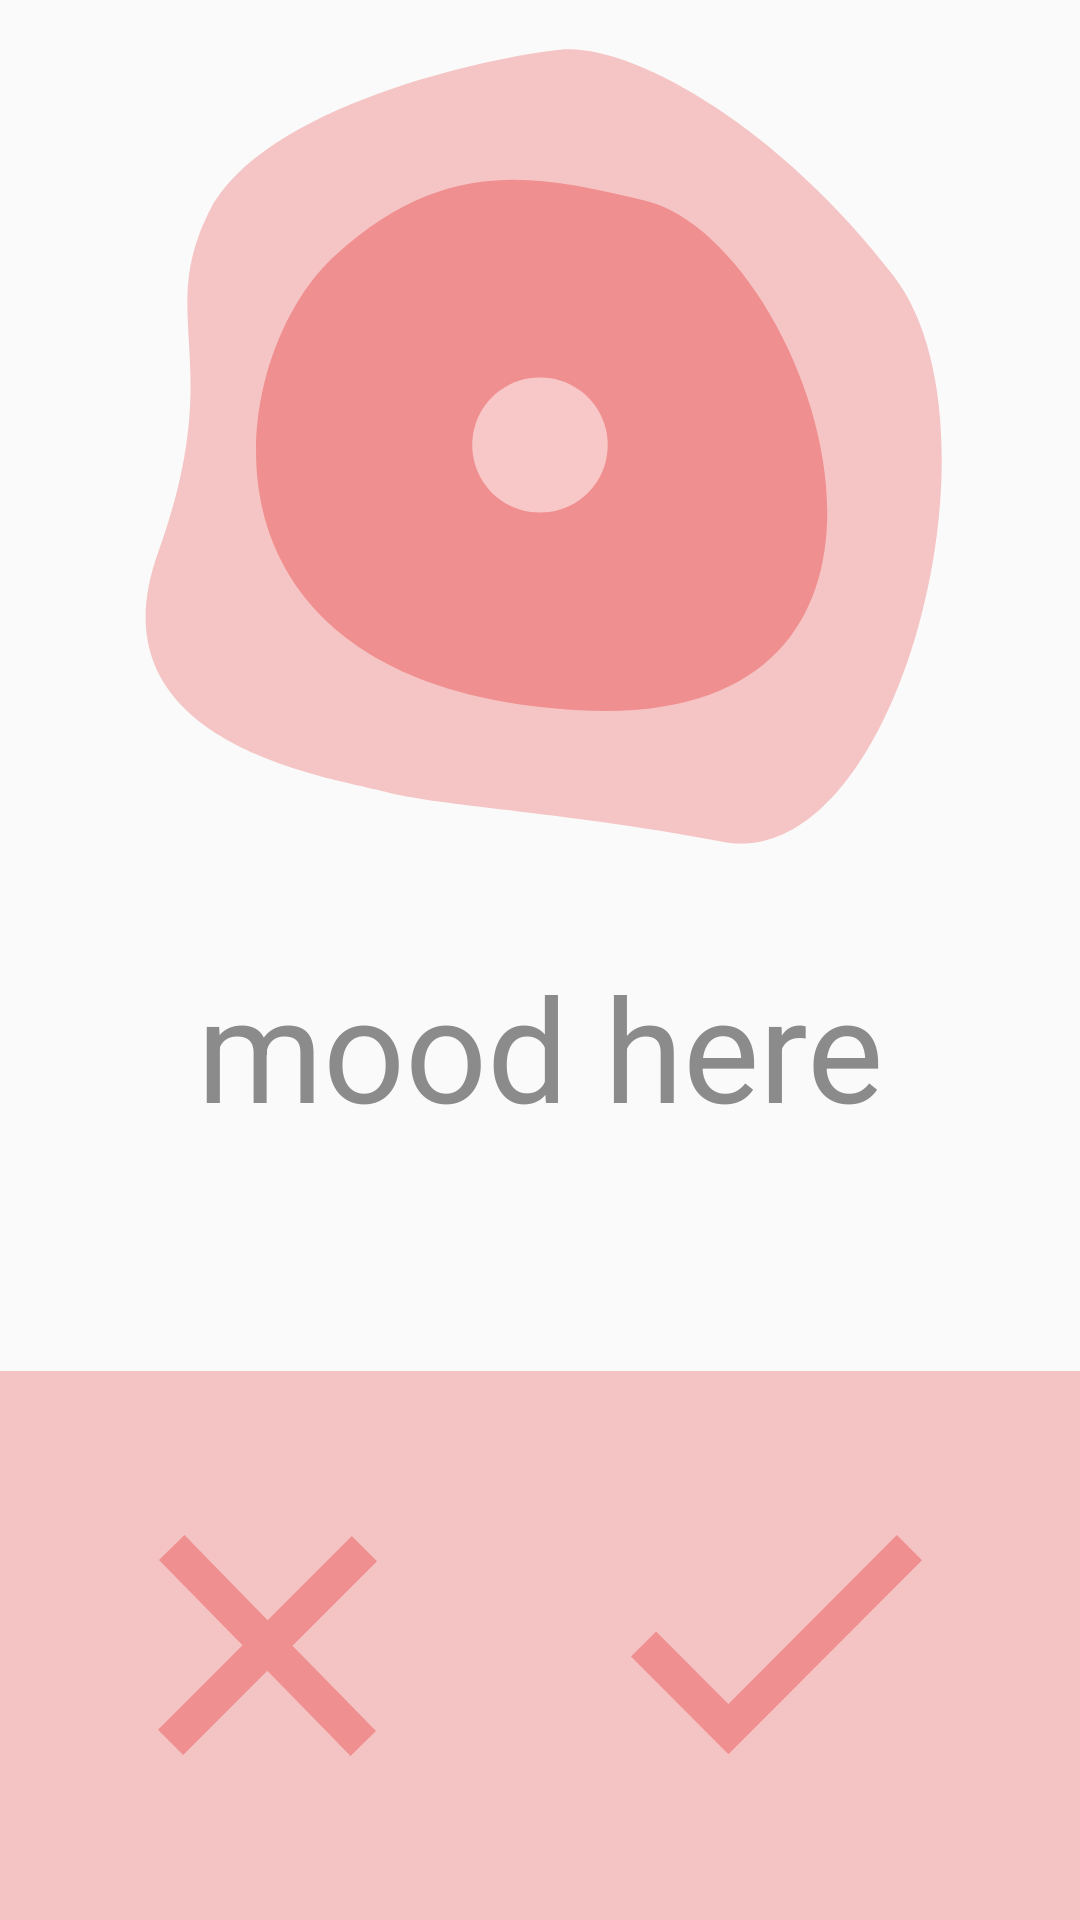

Named icons in this screenshot (1080 x 1920) and their centers, (x,y):
cross: (267,1645)
tick: (776,1644)
